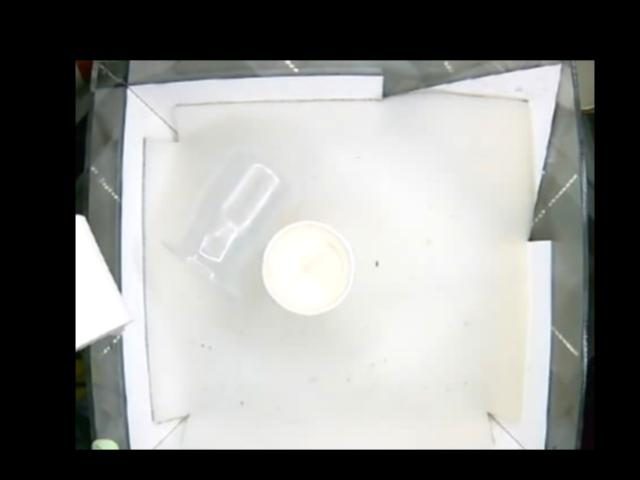Bottle: (167, 155, 282, 290)
Cup: (259, 219, 355, 318)
